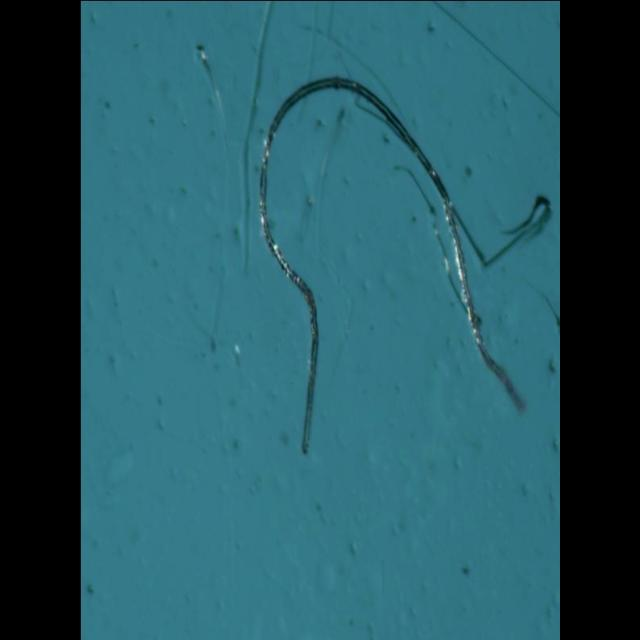Fibre: (257, 75, 551, 457)
